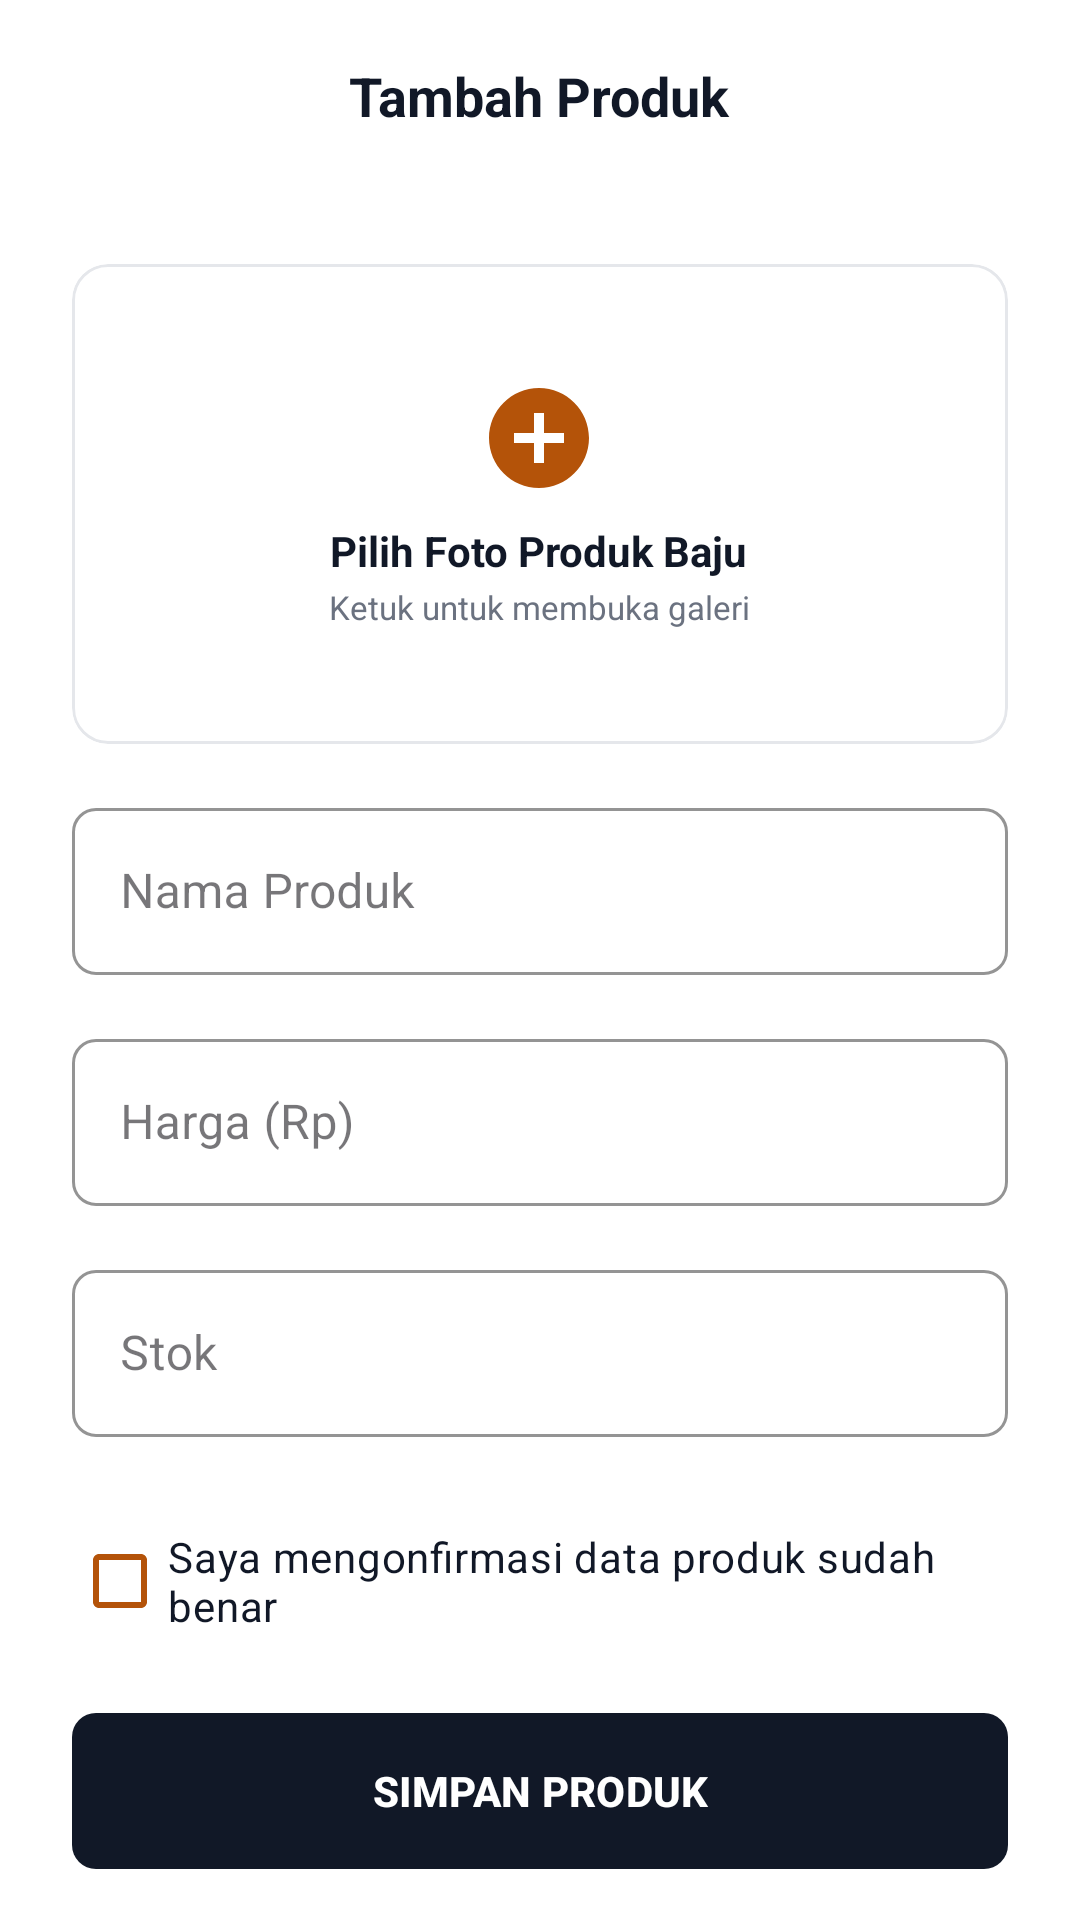

Screen size 1080×1920. Icon name, then its box in pixels as (x1, y1, x2, y2):
add circle: (489, 388, 589, 488)
